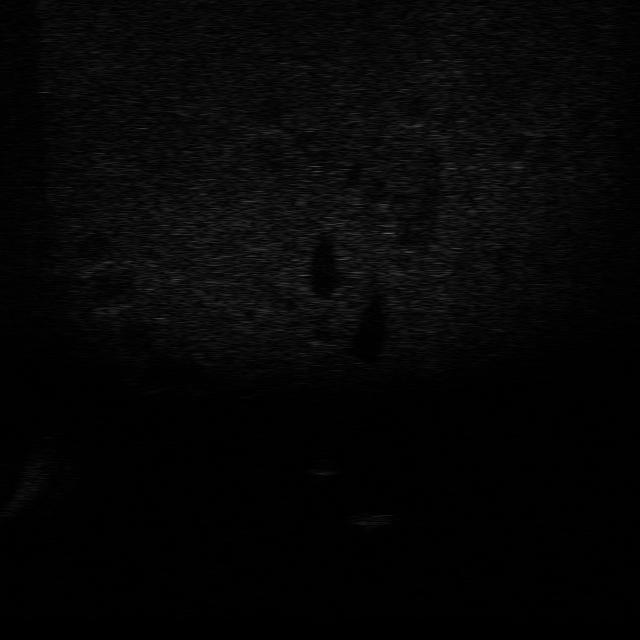ball: (293, 454, 345, 482)
square cage: (342, 507, 407, 535)
